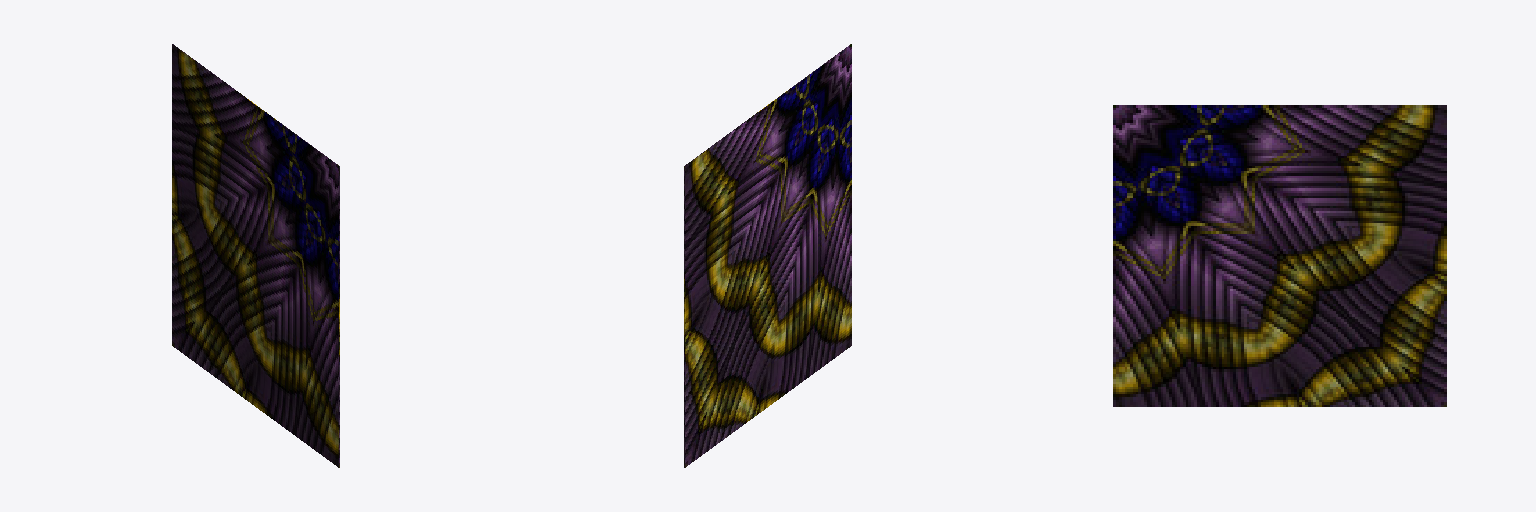
3 renders of one model, left to right at view 1: azimuth 30°, elevation 25°; view 2: azimuth 150°, elevation 25°; view 3: azimuth 270°, elevation 25°, orthographic.
Parts seen in each view (by area): view 1: Surface; view 2: Surface; view 3: Surface.
Part boxes in pixels (left/top/right/bottom): Surface: left=172, top=44, right=339, bottom=467; Surface: left=684, top=44, right=851, bottom=467; Surface: left=1113, top=105, right=1446, bottom=406.
Size of the model in its own units: 0.002 by 1 by 1.
1 materials, 1 textured.